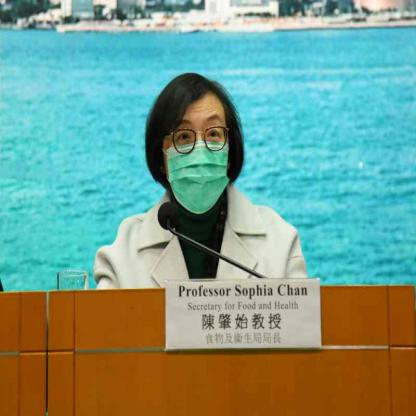Wearing_Mask: (162, 110, 230, 214)
